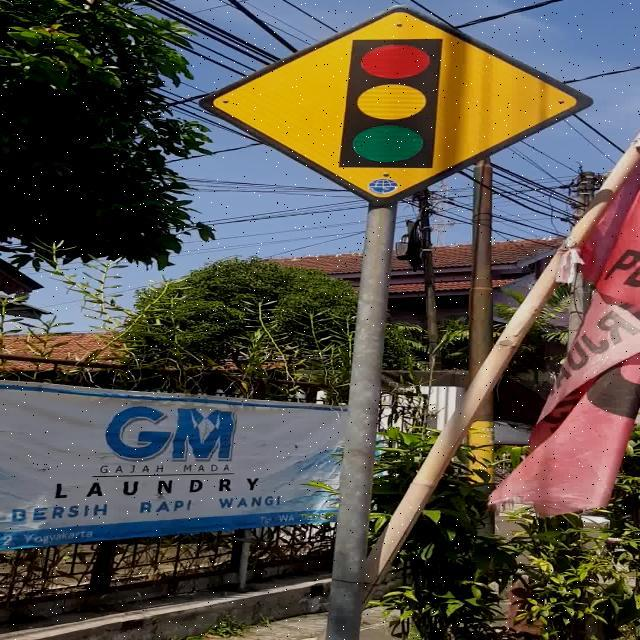Lampu Lalu Lintas: (198, 4, 596, 206)
